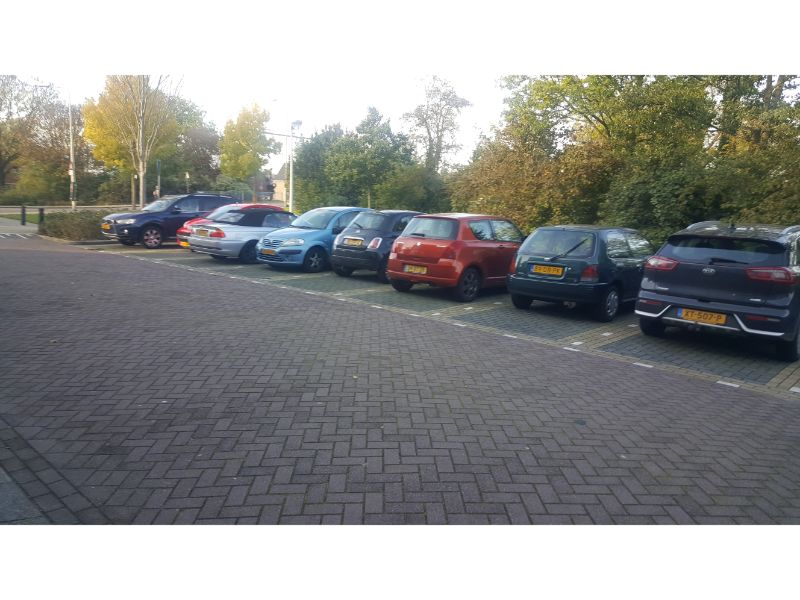kenteken: (677, 306, 727, 326), (531, 263, 565, 276), (404, 263, 428, 277)
